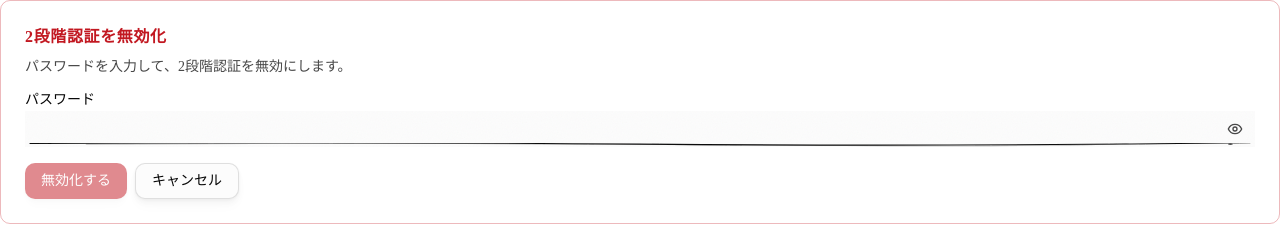
Test: DisableForm › バリデーション › パスワードを入力すると無効化するボタンが有効になる
Type "password123" into the password field labelled "パスワード" at (640, 129), box [25, 111, 1255, 147]
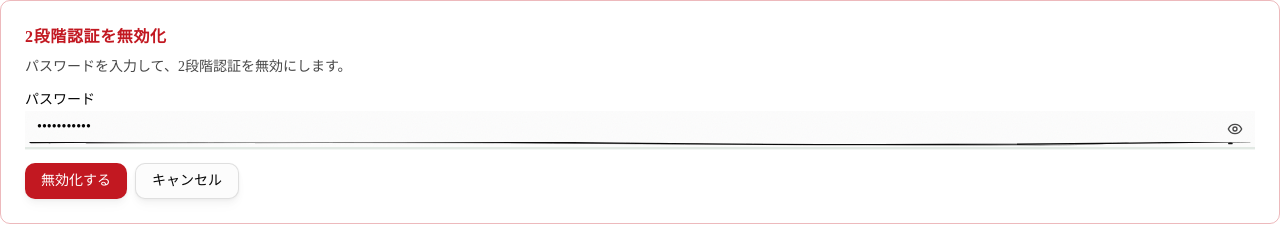
Now the button "無効化する" is enabled, box [25, 163, 127, 199]
